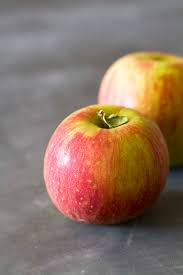apple: (48, 107, 171, 239), (99, 52, 183, 134)
